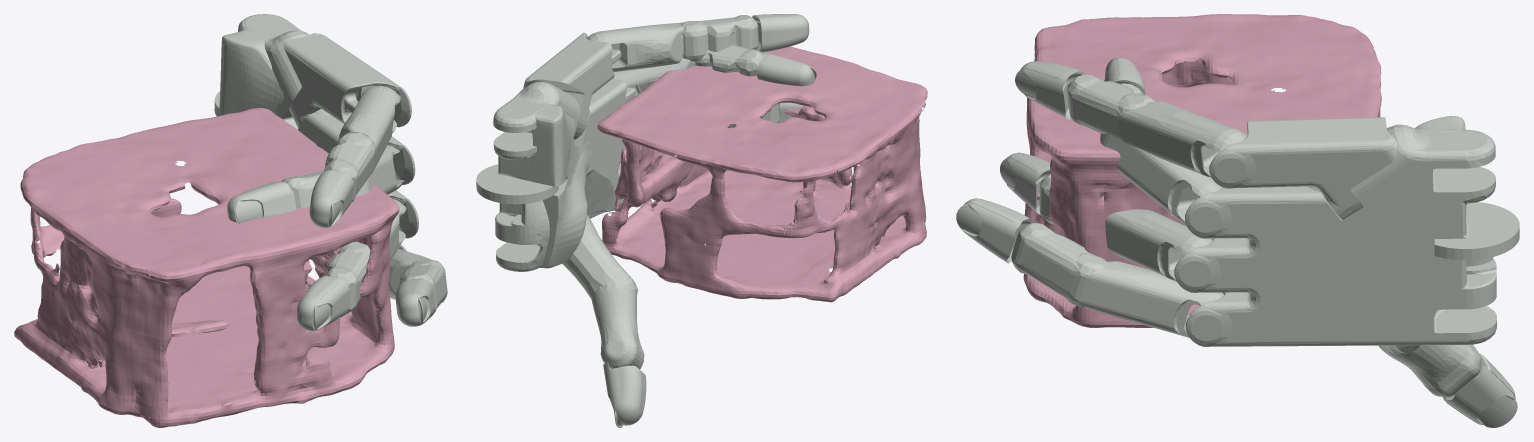
The picture shows the model from 3 angles, left to right: view 1: azimuth 30°, elevation 25°; view 2: azimuth 150°, elevation 25°; view 3: azimuth 270°, elevation 25°; orthographic projection. The views are drawn at different scales.
Parts seen in each view (by area): view 1: world, hand_isaac_q; view 2: world, hand_isaac_q; view 3: hand_isaac_q, world.
Boxes of the visible parts, x1,y1,x2,y2 form: world: [14, 108, 399, 427]; hand_isaac_q: [214, 14, 447, 331]; world: [597, 46, 927, 302]; hand_isaac_q: [476, 14, 816, 427]; hand_isaac_q: [956, 57, 1519, 427]; world: [1023, 14, 1381, 327].
Bounding box in the file's own units: 0.1677 × 0.151 × 0.2051.
